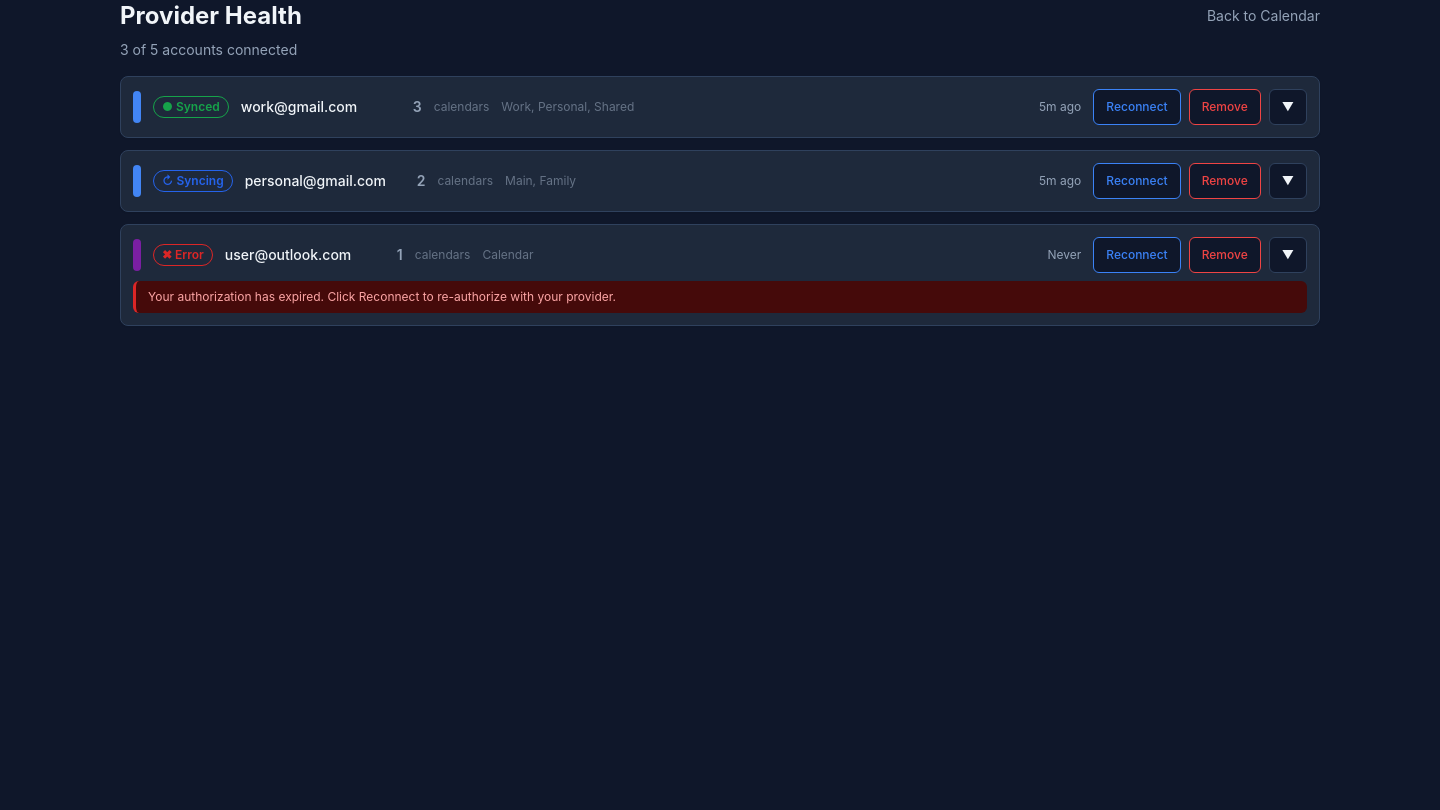
ProviderHealth Dashboard › remove account flow › shows confirmation dialog when remove is clicked
The image size is (1440, 810).
Click the button with test id "remove-btn" at (1225, 107), box [1189,89,1261,125]
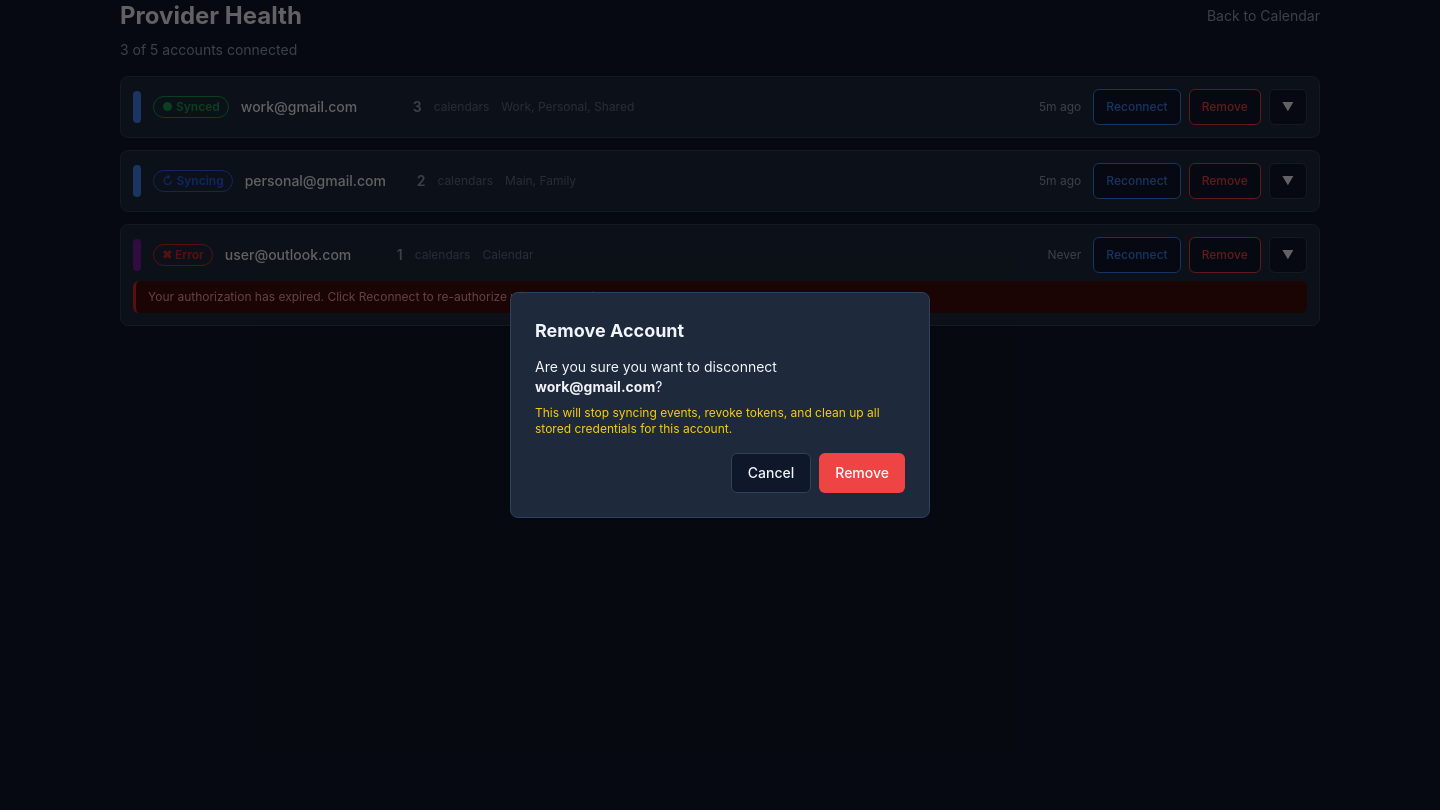
Now the dialog with test id "remove-dialog" is shown
